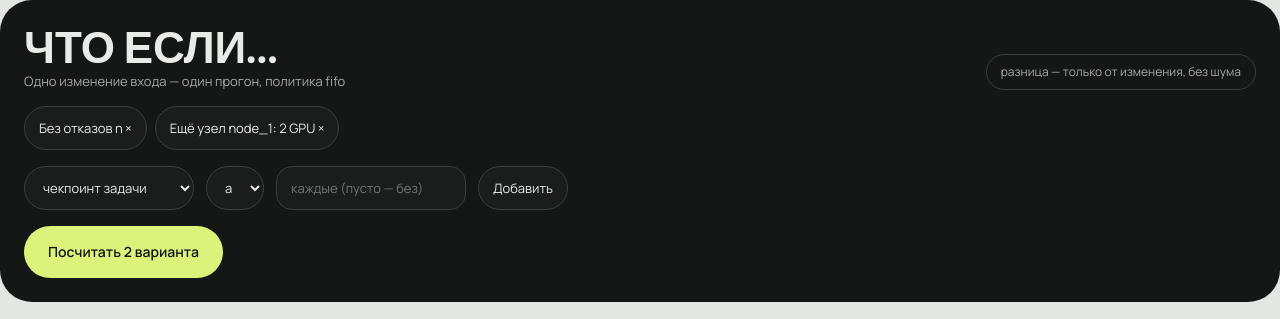
Scenario: WhatIf › shows why the API refused
Click the button "Посчитать 2 варианта" at (123, 252), box [24, 226, 223, 278]
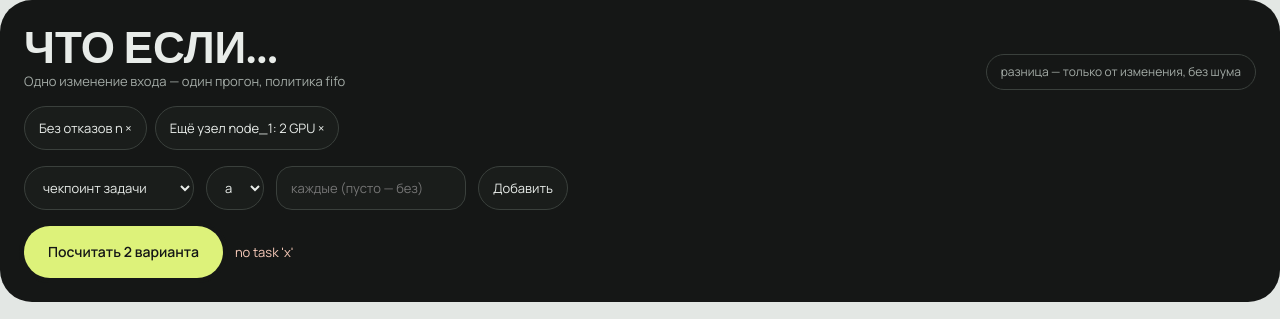
Check: the message reads "no task 'x'", box [235, 243, 294, 261]
